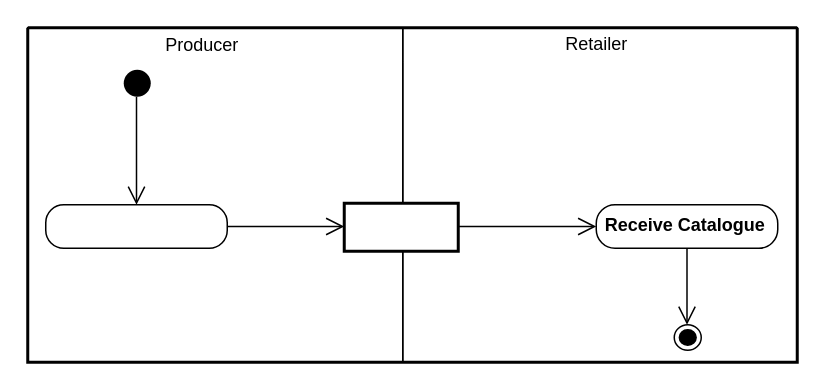
This 824x389 diagram has some shape labels left out. Here are the shapes that lost their labels. From the top down, the centre of each, then its label:
At (135,225): "Send Catalogue".
At (400,226): "Catalogue".
